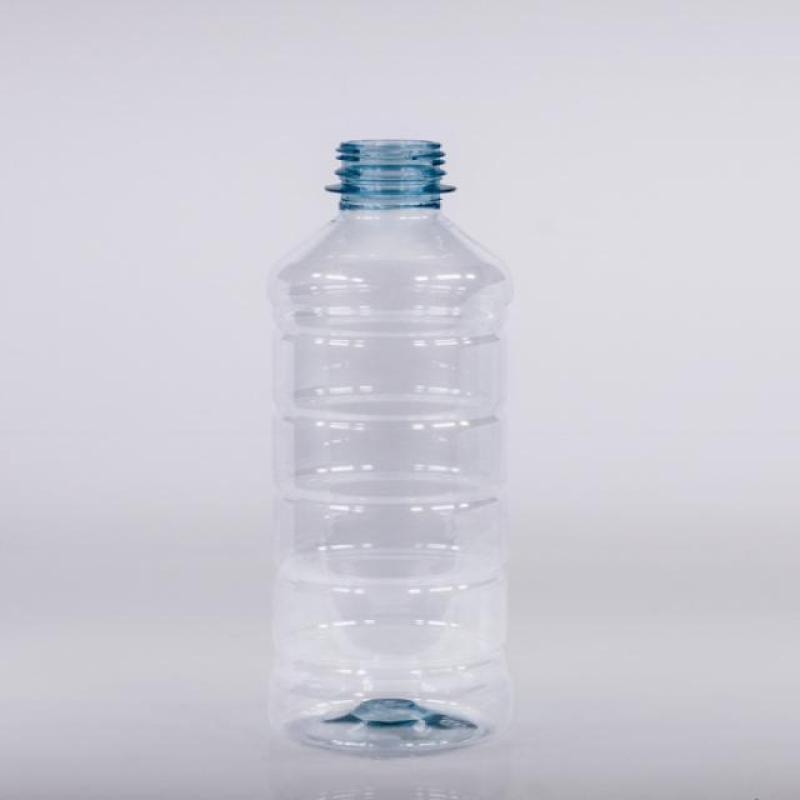botella: (265, 136, 514, 759)
